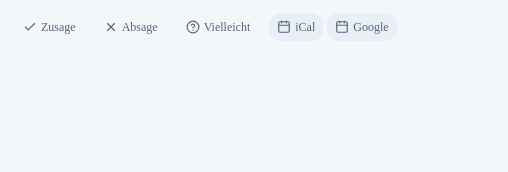
it: RsvpSection (RTL) › Klick-Interaktion › setzt Status-Indikator nach erfolgreichem Klick auf "Zusage"
The image size is (508, 172).
Click the button "Vielleicht": (218, 27) [175,12,261,42]
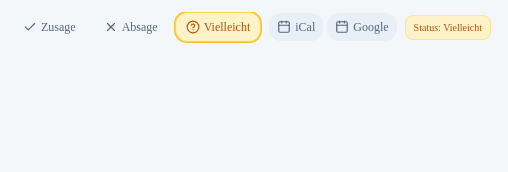
Check: the text "Status: Vielleicht" is shown, box [405,14,491,40]
